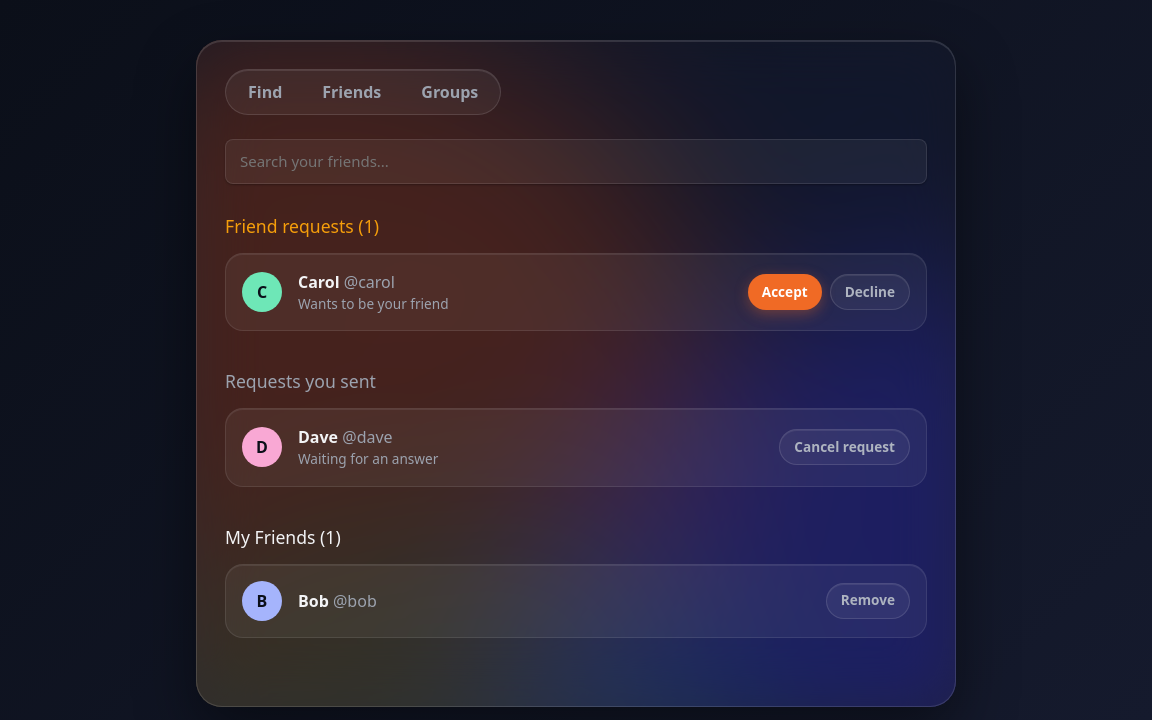
Test: a sent request can be cancelled
The image size is (1152, 720).
Click the button with aria-label "Cancel your request to Dave". click: (845, 447)
box: [779, 429, 910, 465]
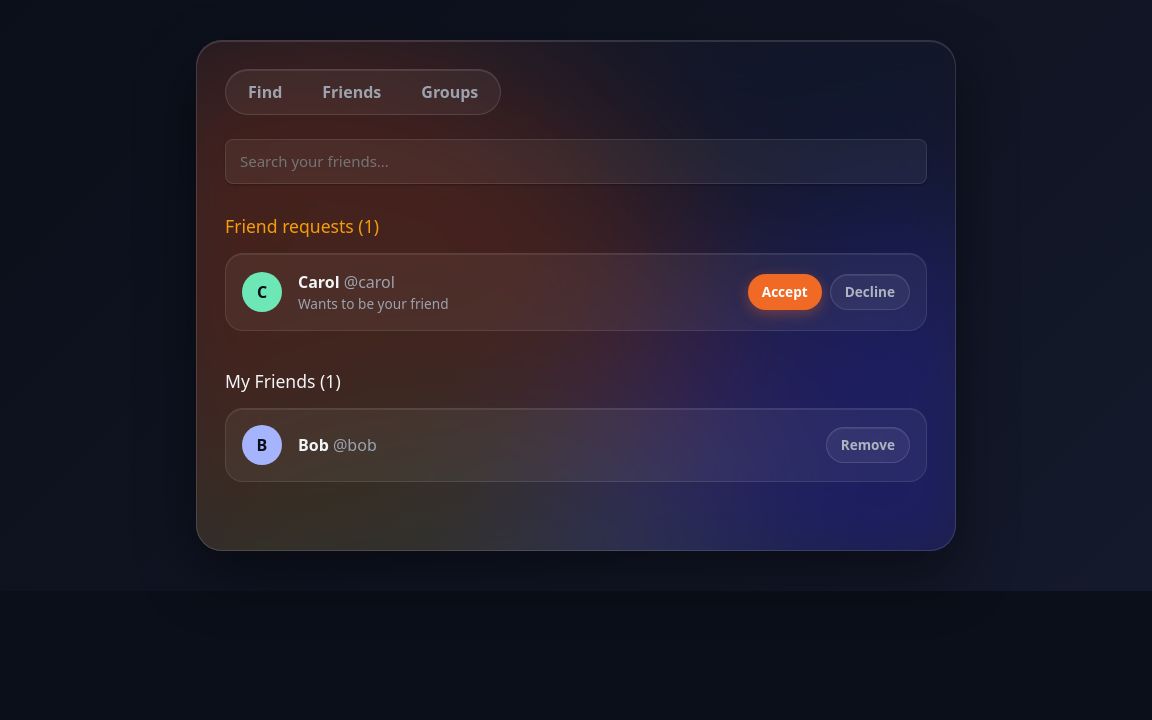
Expected: the heading "Requests you sent" is gone
